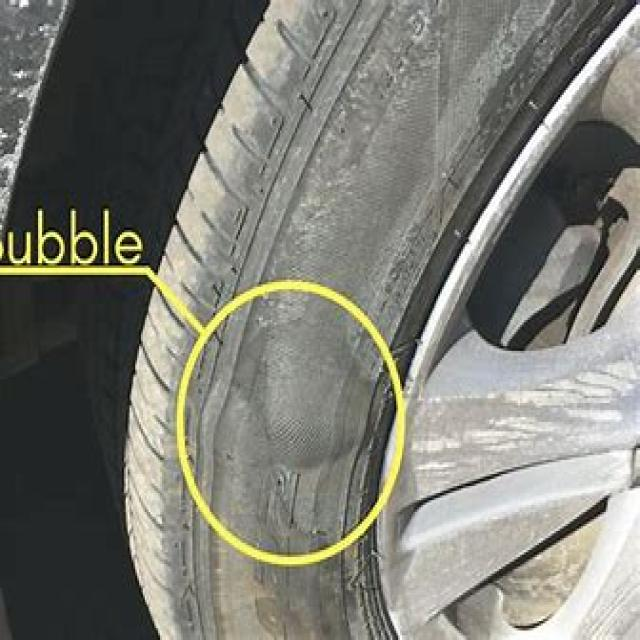Bulge: (252, 319, 379, 485)
